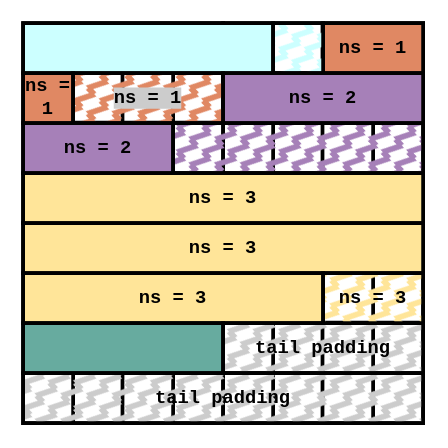
Image size: 448x448. Some labels were removed from this diagram. Each missing label, with the centre of its shape:
"ns = 4" belongs at point 122,347.
"Transactions" belongs at point 147,47.
